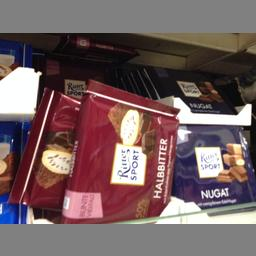chocolate: (60, 81, 178, 222), (172, 125, 254, 208), (144, 68, 238, 114)
